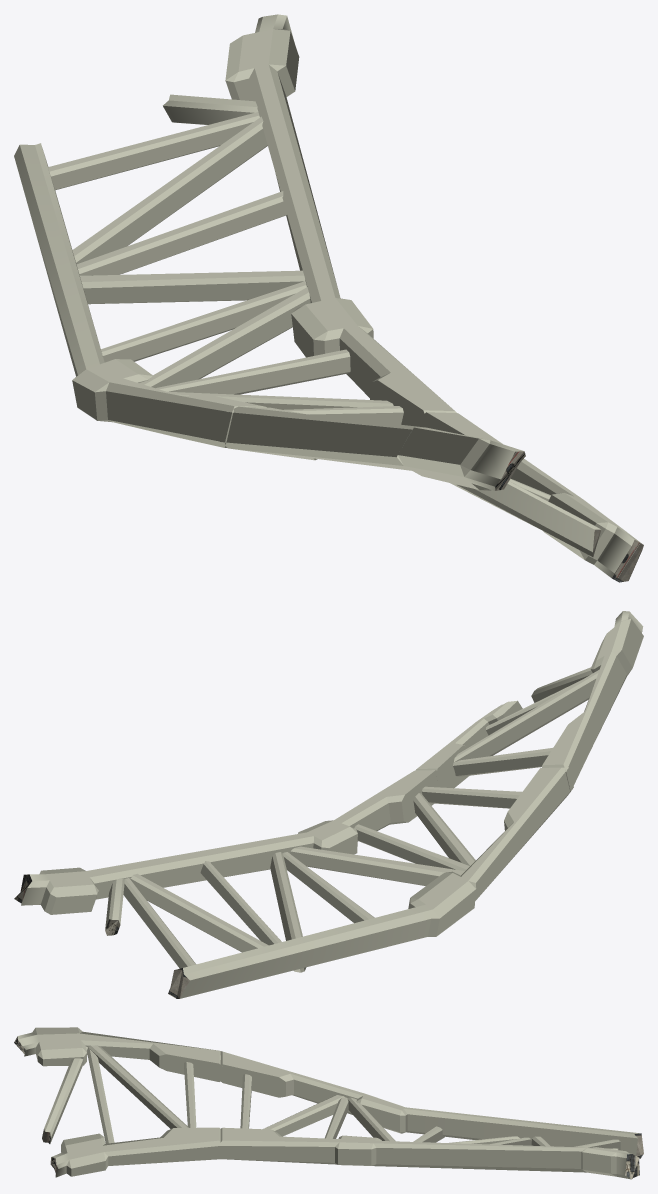
The model's file is bent_girder_white.dae.
3 renders of one model, top to bottom at view 1: azimuth 30°, elevation 25°; view 2: azimuth 150°, elevation 25°; view 3: azimuth 270°, elevation 25°, orthographic. The views are drawn at different scales.
Parts seen in each view (by area): view 1: polySurface95; view 2: polySurface95; view 3: polySurface95.
Part boxes in pixels (x1,y1,x2,y2): polySurface95: [14, 14, 643, 582]; polySurface95: [14, 611, 643, 998]; polySurface95: [14, 1027, 643, 1179].
Size of the model in its own units: 1.24 by 0.5537 by 2.79.
